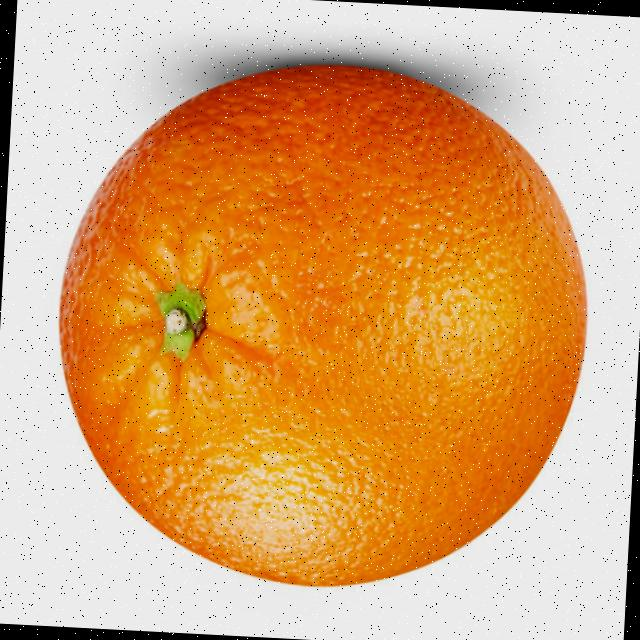Ripe: (47, 47, 602, 606)
